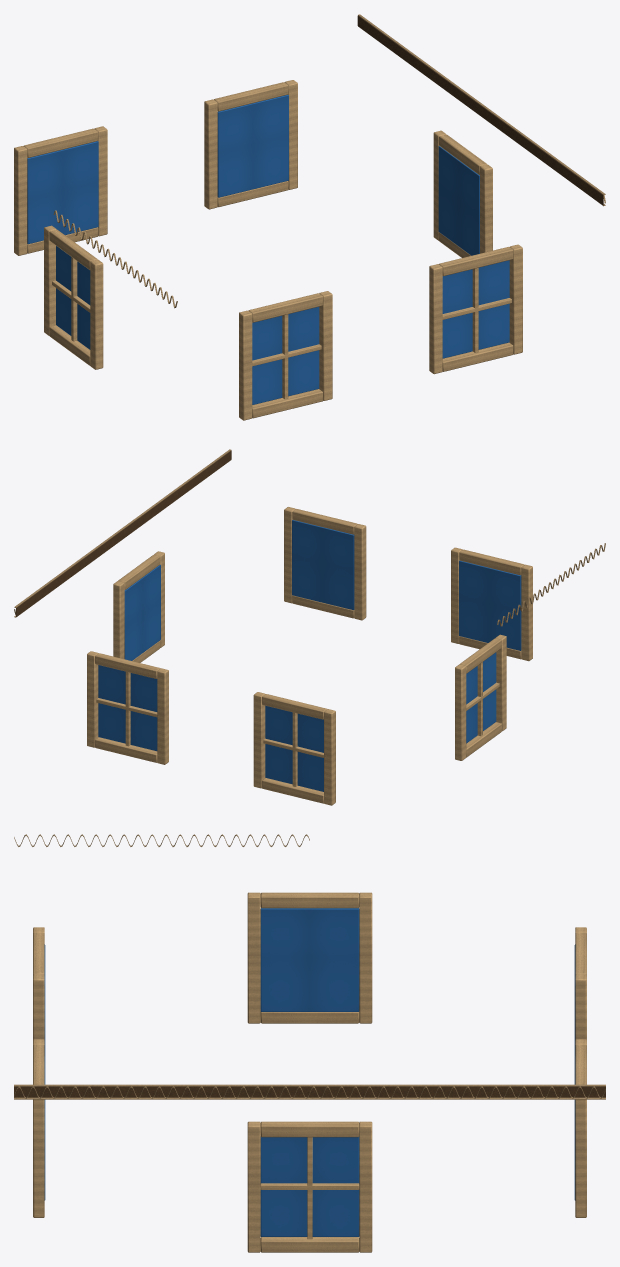
Rendered from 8-upper-box-2-2.fbx.
The picture shows the model from 3 angles, top to bottom: view 1: azimuth 30°, elevation 25°; view 2: azimuth 150°, elevation 25°; view 3: azimuth 270°, elevation 25°; orthographic projection. The views are drawn at different scales.
Parts seen in each view (by area): view 1: upper-box-2-2; view 2: upper-box-2-2; view 3: upper-box-2-2.
Part boxes in pixels (x1,y1,x2,y2): upper-box-2-2: (14, 14, 605, 420); upper-box-2-2: (14, 449, 605, 805); upper-box-2-2: (14, 834, 605, 1252).
Bounding box in the file's own units: 7672 × 2500 × 7600.
1 material, 1 textured.
